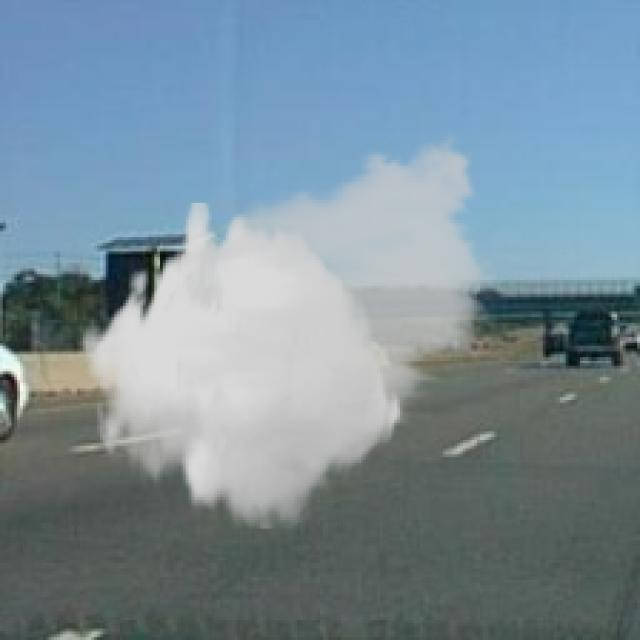smoke: (80, 126, 500, 528)
